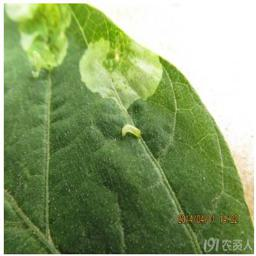liriomyza: (77, 34, 163, 110), (3, 3, 69, 78), (119, 121, 143, 140)
